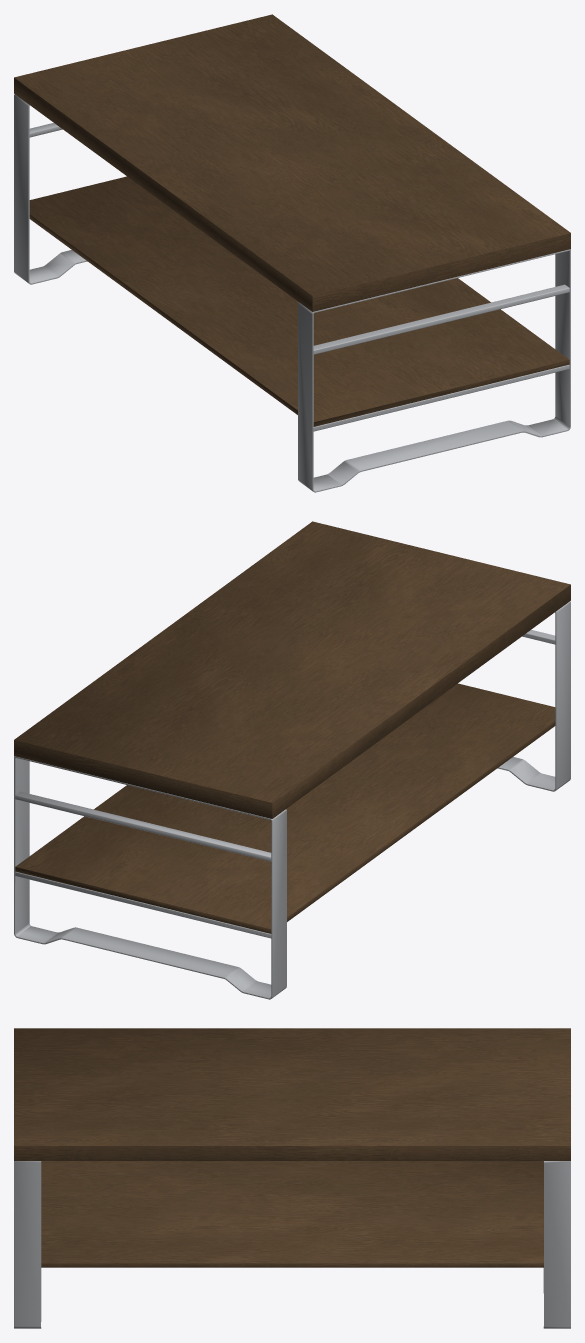
File: sr_furniture_table_coffee_low_a01.glb
3 views of the same model, one above another, from view 1: azimuth 30°, elevation 25°; view 2: azimuth 150°, elevation 25°; view 3: azimuth 270°, elevation 25° (orthographic). The views are drawn at different scales.
Parts seen in each view (by area): view 1: m_opaque__wood__tintedMidGloss_a01_3, m_opaque__metal__brushedAniso_clean_a01_2; view 2: m_opaque__wood__tintedMidGloss_a01_3, m_opaque__metal__brushedAniso_clean_a01_2; view 3: m_opaque__wood__tintedMidGloss_a01_3, m_opaque__metal__brushedAniso_clean_a01_2.
Boxes of the visible parts, x1=… form: m_opaque__wood__tintedMidGloss_a01_3: x1=14, y1=14, x2=570, y2=426; m_opaque__metal__brushedAniso_clean_a01_2: x1=14, y1=94, x2=570, y2=492; m_opaque__wood__tintedMidGloss_a01_3: x1=14, y1=521, x2=570, y2=933; m_opaque__metal__brushedAniso_clean_a01_2: x1=14, y1=601, x2=570, y2=999; m_opaque__wood__tintedMidGloss_a01_3: x1=14, y1=1028, x2=570, y2=1267; m_opaque__metal__brushedAniso_clean_a01_2: x1=14, y1=1161, x2=570, y2=1328.
Size of the model in its own units: 0.6001 by 0.4427 by 1.2.
Materials: 3 (2 with a texture image).
